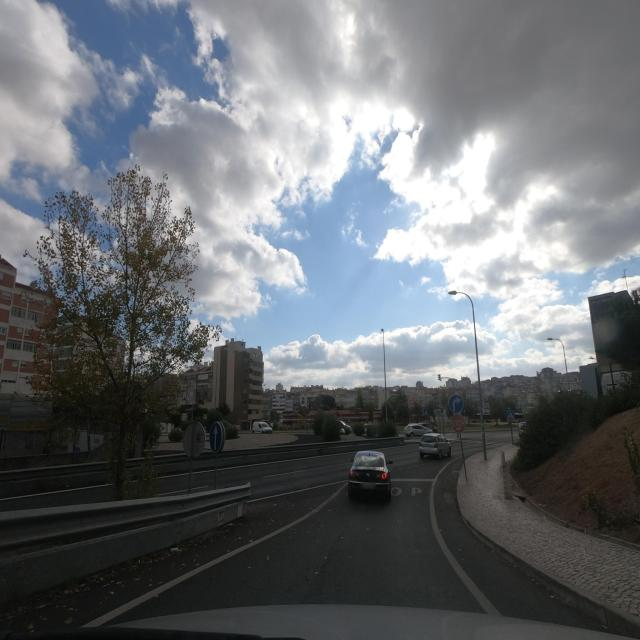car: (347, 448, 393, 502), (418, 432, 452, 460), (404, 422, 428, 437), (251, 421, 273, 434)
